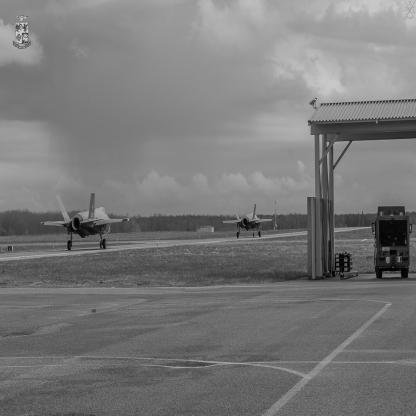F35: (40, 194, 131, 252), (221, 205, 277, 240)
